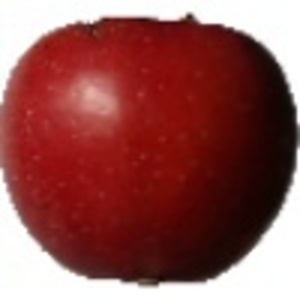maçã braeburn: (1, 11, 298, 291)
